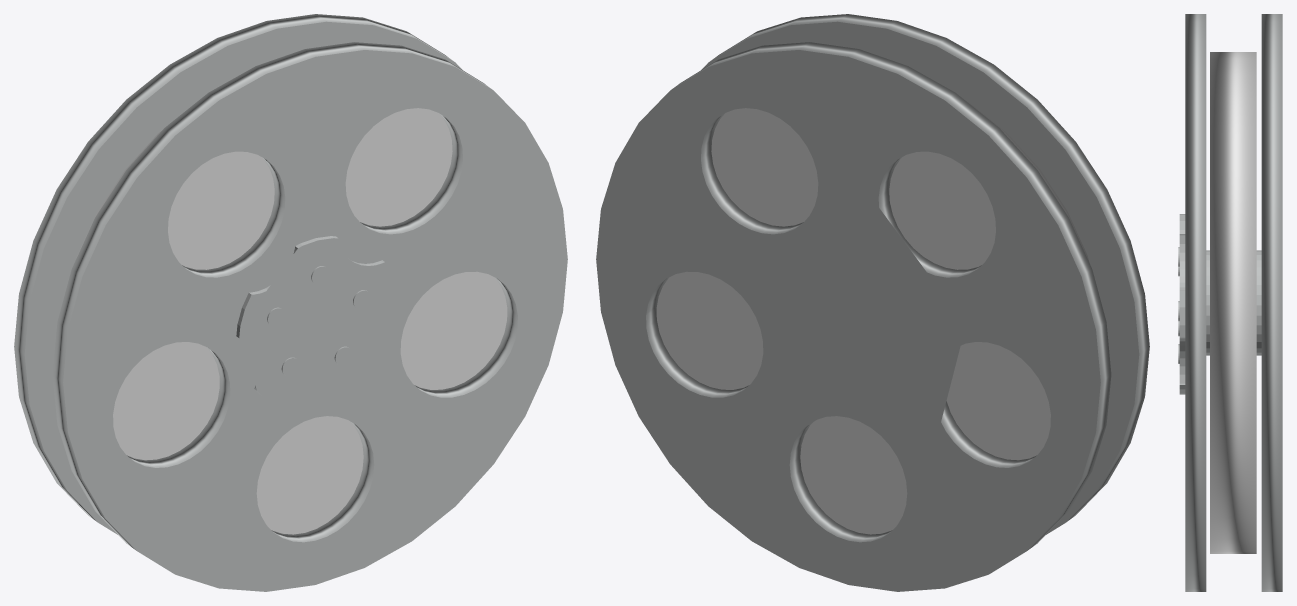
Rendered from Reel.fbx.
The picture shows the model from 3 angles, left to right: view 1: azimuth 30°, elevation 25°; view 2: azimuth 150°, elevation 25°; view 3: azimuth 270°, elevation 25°; orthographic projection.
Visible parts, largest first — view 1: FilmReel.001; view 2: FilmReel.001; view 3: FilmReel.001.
Boxes of the visible parts, left/top/right/bottom form: FilmReel.001: left=14, top=14, right=567, bottom=591; FilmReel.001: left=596, top=14, right=1149, bottom=591; FilmReel.001: left=1178, top=14, right=1282, bottom=591.
Bounding box in the file's own units: 63.18 × 63.18 × 11.41.
